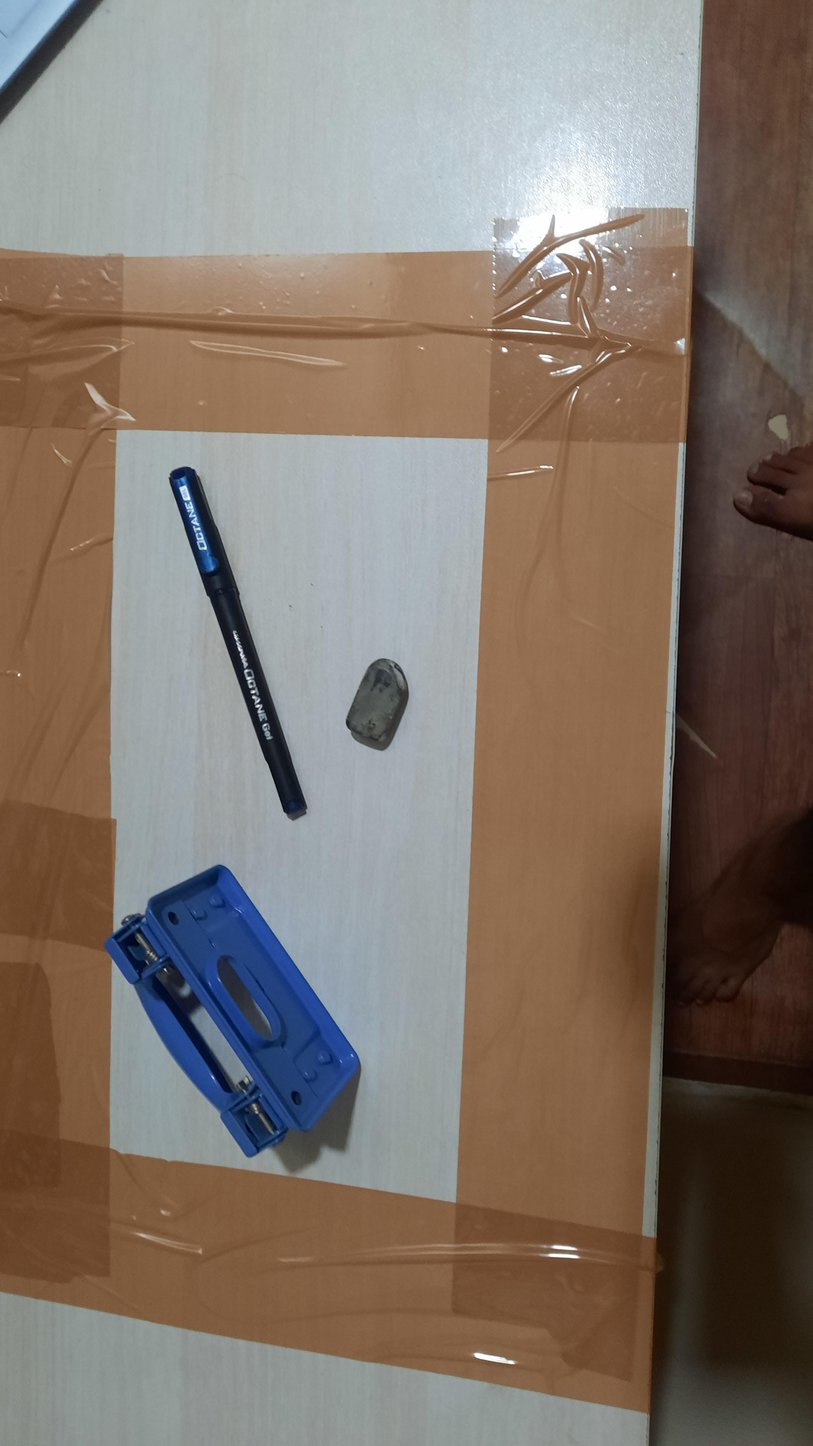Eraser: (345, 658, 410, 751)
Pen: (169, 466, 307, 821)
Punch: (104, 864, 362, 1159)
